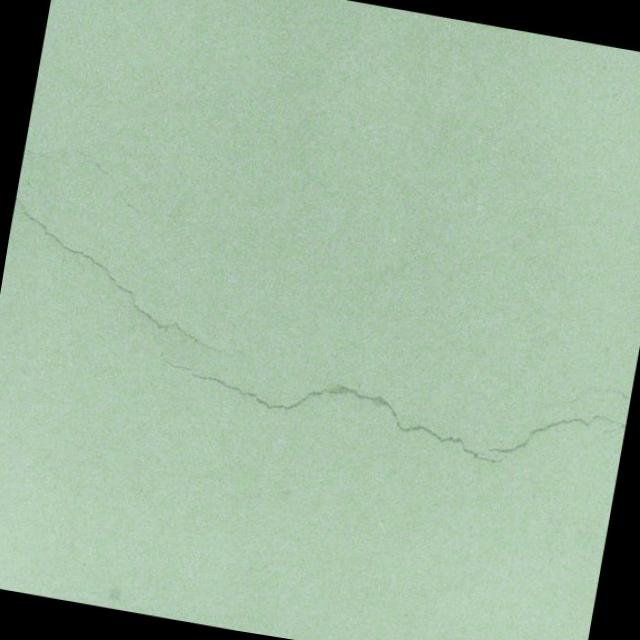crack: (128, 324, 518, 466), (0, 195, 243, 352), (16, 140, 241, 234), (484, 395, 627, 474), (546, 377, 633, 421)
